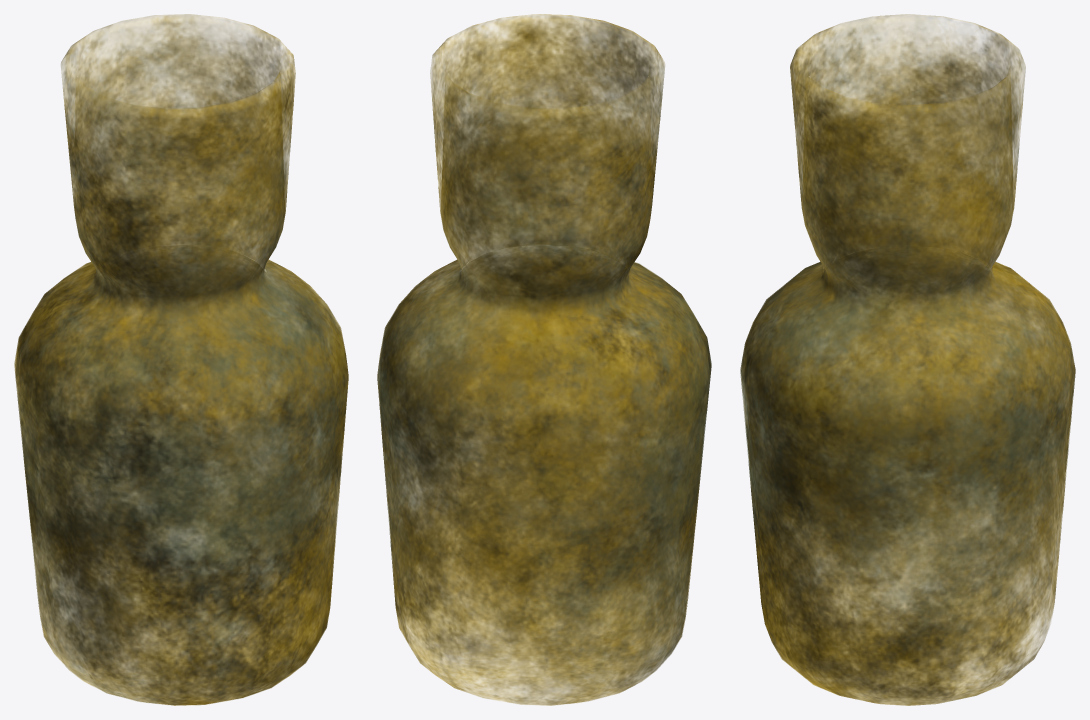
The model's file is estus1.glb.
The picture shows the model from 3 angles, left to right: view 1: azimuth 30°, elevation 25°; view 2: azimuth 150°, elevation 25°; view 3: azimuth 270°, elevation 25°; orthographic projection.
Parts seen in each view (by area): view 1: Estus_Flask_Estus_Flask1_0; view 2: Estus_Flask_Estus_Flask1_0; view 3: Estus_Flask_Estus_Flask1_0.
Part boxes in pixels (x1,y1,x2,y2): Estus_Flask_Estus_Flask1_0: [14, 14, 348, 705]; Estus_Flask_Estus_Flask1_0: [377, 14, 711, 705]; Estus_Flask_Estus_Flask1_0: [740, 14, 1075, 705].
Size of the model in its own units: 0.1143 by 0.2285 by 0.1143.
1 material, 1 textured.
